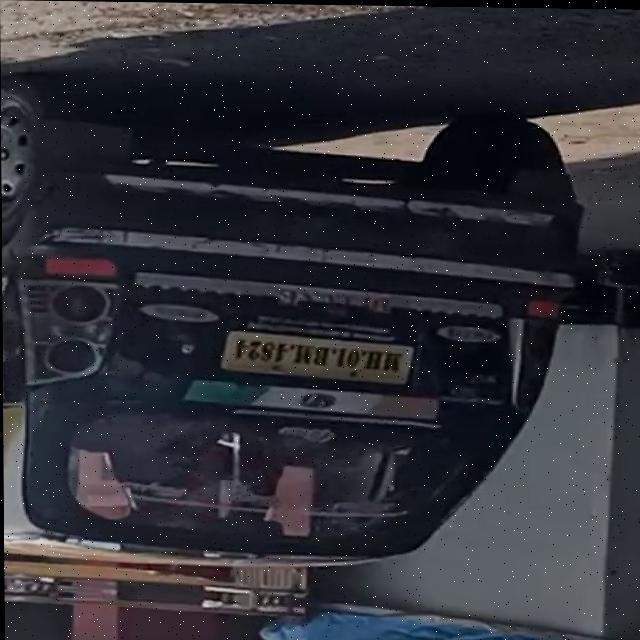plate: (209, 320, 427, 395)
